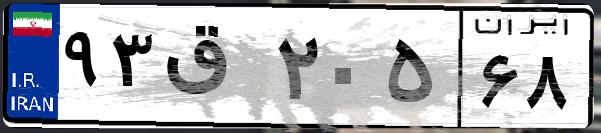0: (330, 28, 385, 110)
2: (270, 28, 330, 110)
3: (110, 28, 158, 98)
5: (385, 28, 445, 110)
6: (475, 38, 525, 113)
8: (525, 38, 570, 115)
9: (57, 26, 110, 100)
ق: (158, 20, 270, 120)
